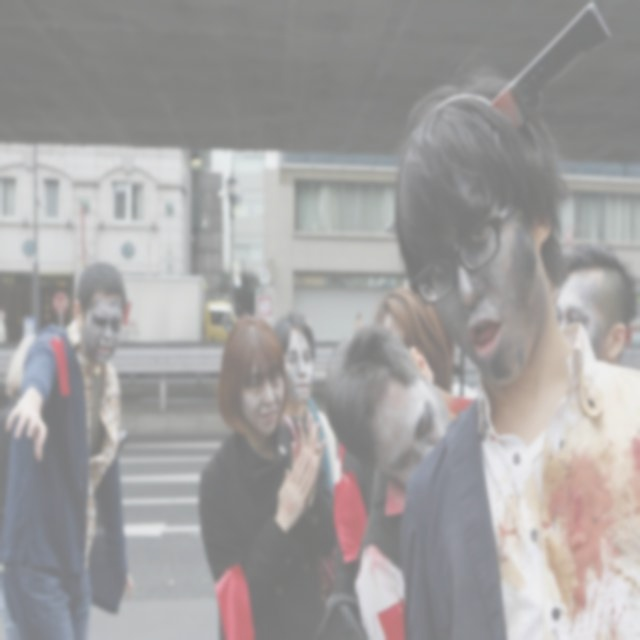pessoa: (393, 70, 640, 639), (0, 253, 138, 640), (323, 321, 478, 639), (195, 310, 340, 639), (268, 311, 342, 489), (548, 237, 640, 371), (0, 332, 38, 640), (371, 283, 457, 393)
